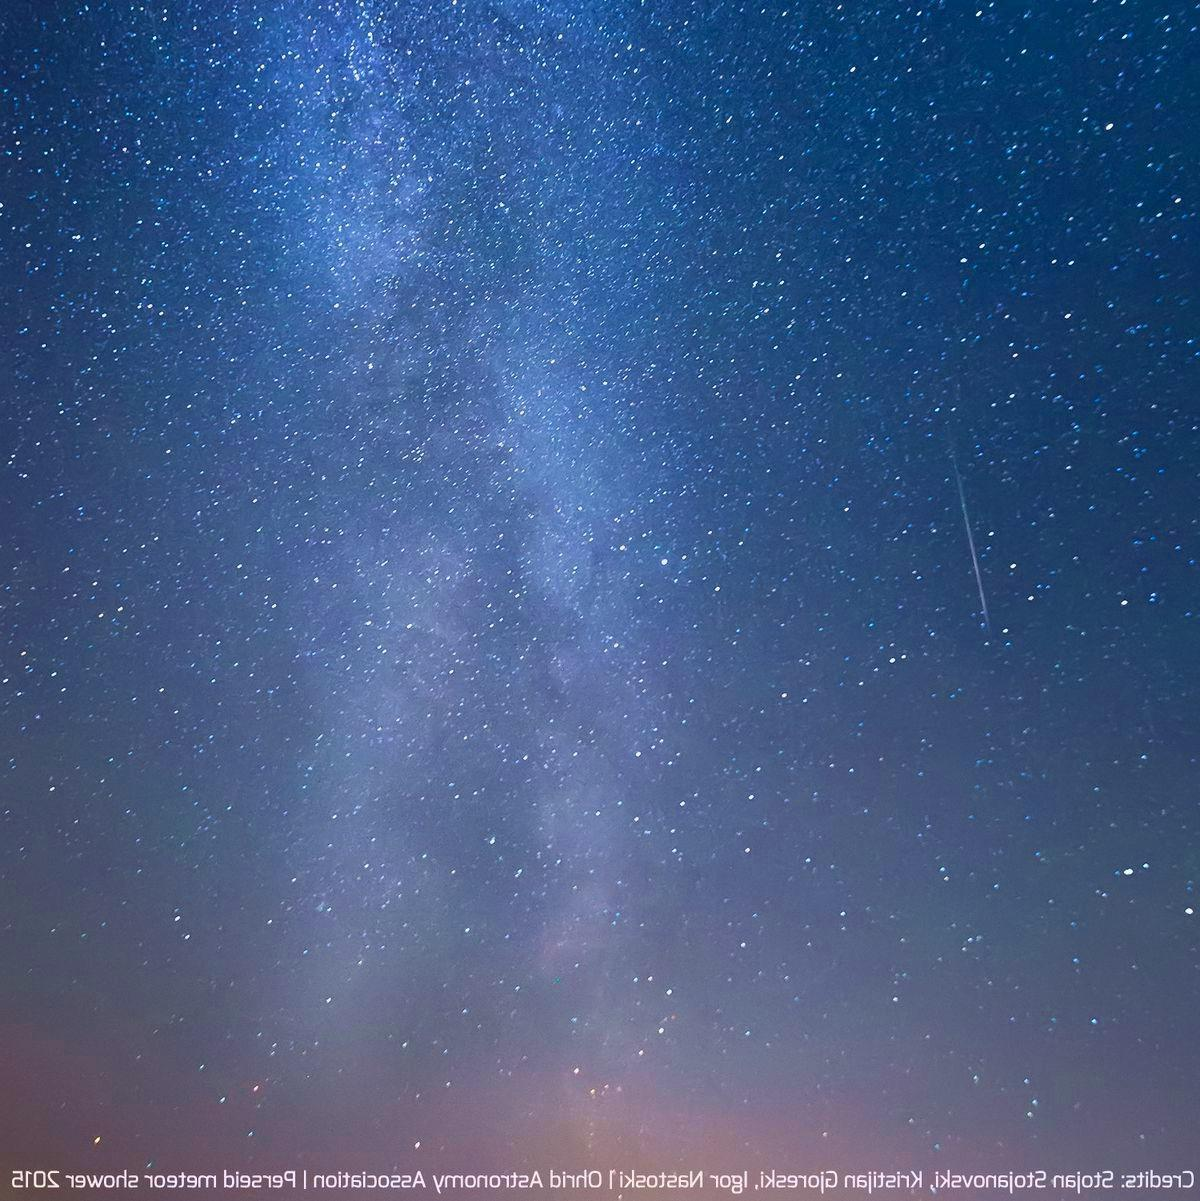meteorite: (937, 436, 1008, 653)
